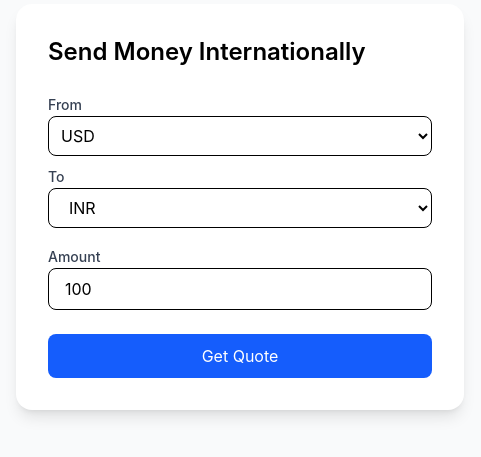
Test: App flow › moves from quote to confirm screen
The image size is (481, 457).
Click the button "Get Quote".
click(240, 356)  # box 48,334 -> 432,378
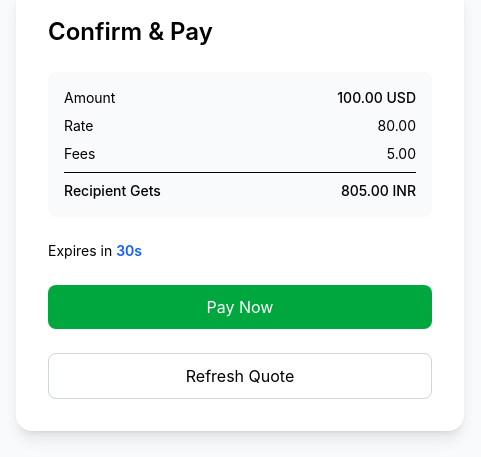
Expected: the heading "Confirm & Pay" is shown, 48,16 -> 213,46
